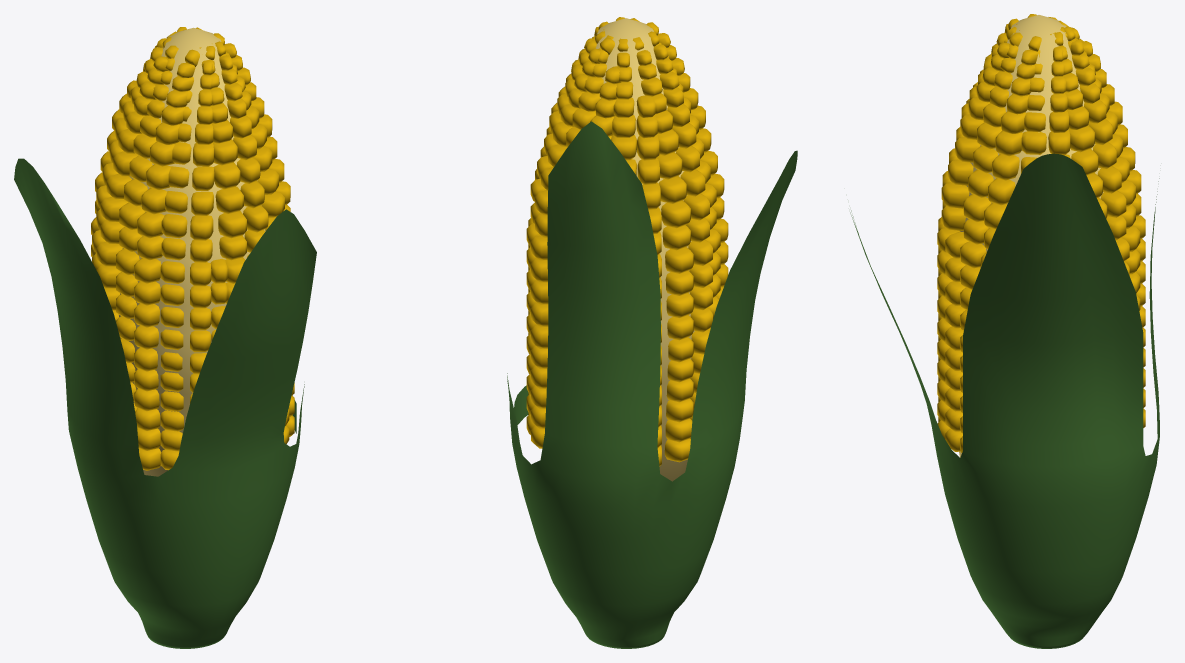
The model's file is Corn.glb.
The picture shows the model from 3 angles, left to right: view 1: azimuth 30°, elevation 25°; view 2: azimuth 150°, elevation 25°; view 3: azimuth 270°, elevation 25°; orthographic projection.
Visible parts, largest first — view 1: Tube001, Sphere001; view 2: Tube001, Sphere001; view 3: Tube001, Sphere001.
Part boxes in pixels (bbox=[...]): Tube001: bbox=[14, 158, 316, 648]; Sphere001: bbox=[91, 27, 294, 476]; Tube001: bbox=[507, 121, 797, 648]; Sphere001: bbox=[526, 17, 728, 481]; Tube001: bbox=[850, 153, 1159, 648]; Sphere001: bbox=[937, 14, 1145, 457].
Bounding box in the file's own units: 23.35 × 37.08 × 18.73.
